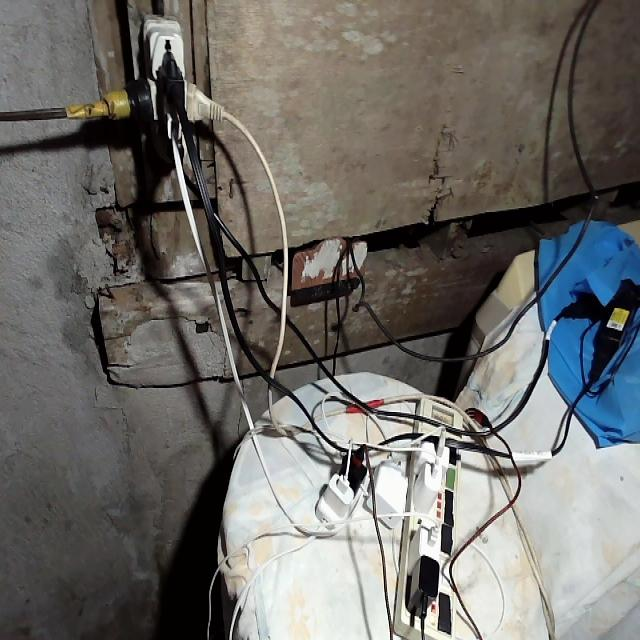-: (95, 16, 238, 144)
